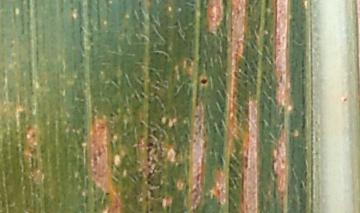tarspot: (197, 74, 209, 86)
